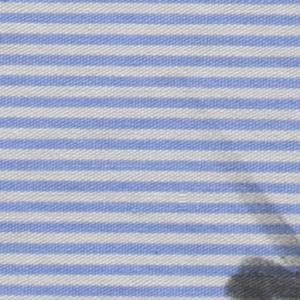Stain: (193, 116, 300, 300)
